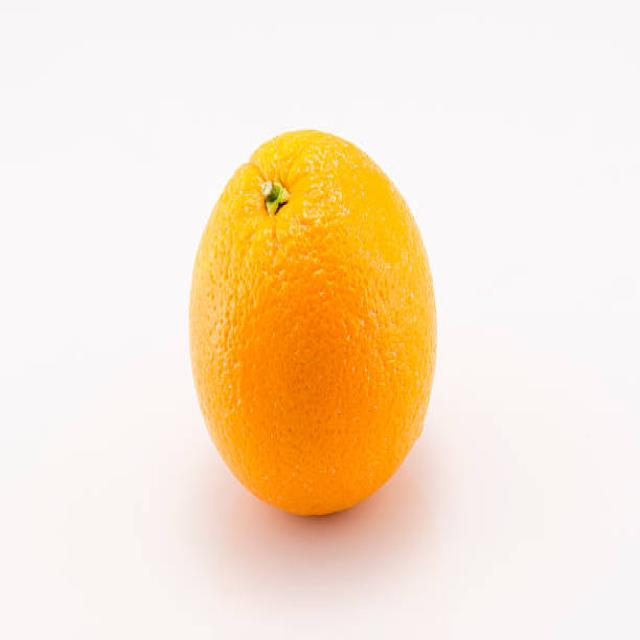Ripe: (186, 125, 439, 518)
